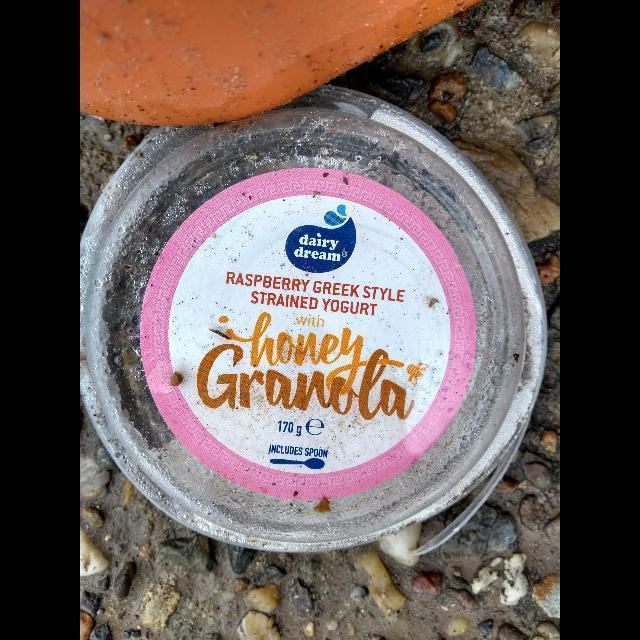Plastic: (80, 84, 548, 556)
